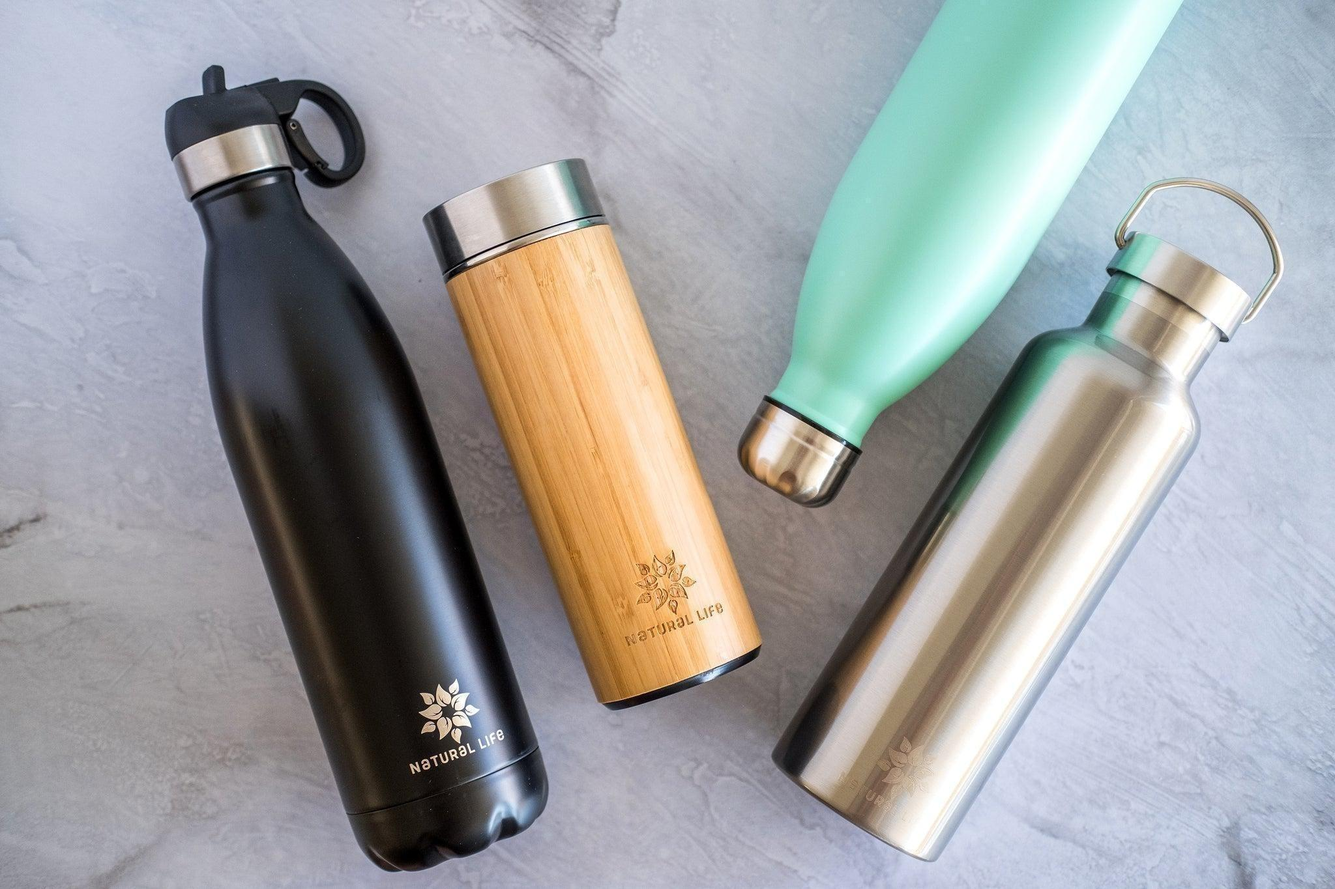gym bottle: (774, 179, 1280, 863), (161, 65, 553, 869), (740, 1, 1175, 504), (421, 156, 762, 711)
